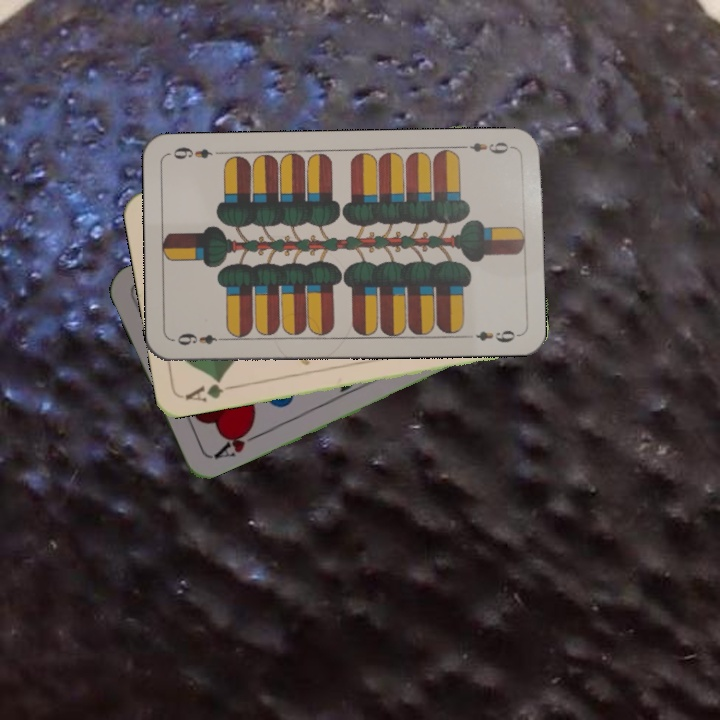E9: (170, 329, 229, 348), (457, 138, 516, 157)
GA: (181, 374, 239, 405)
HA: (207, 421, 263, 462)
